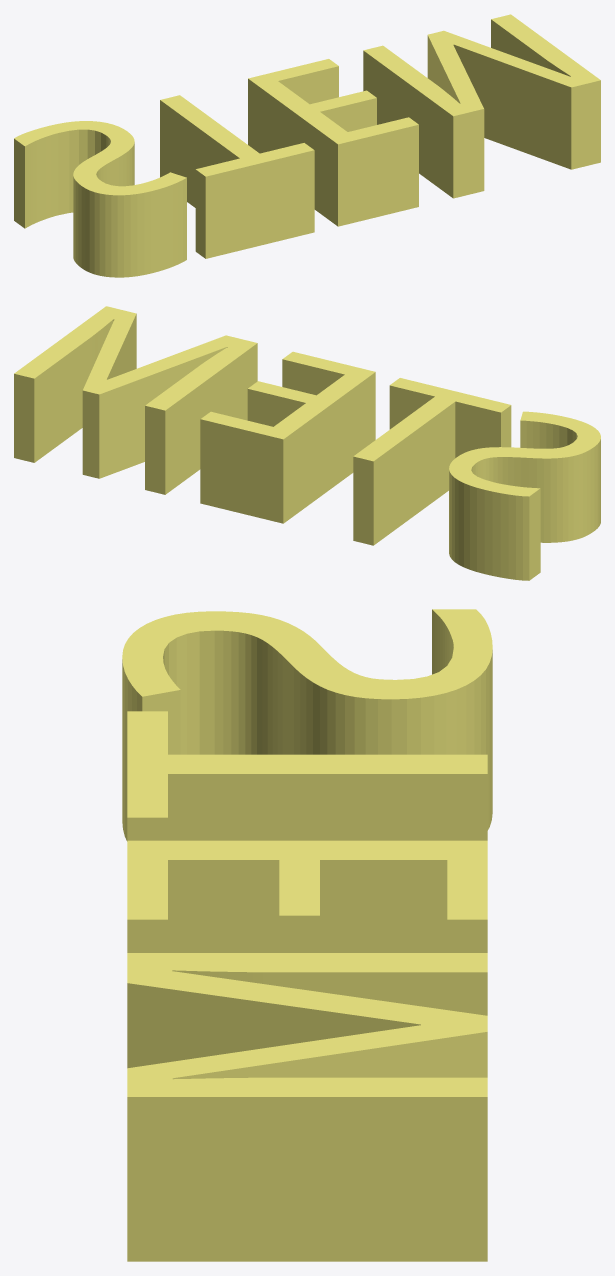
Rendered from tinker.obj.
3 views of the same model, one above another, from view 1: azimuth 30°, elevation 25°; view 2: azimuth 150°, elevation 25°; view 3: azimuth 270°, elevation 25° (orthographic). The views are drawn at different scales.
Visible parts, largest first — view 1: obj_0; view 2: obj_0; view 3: obj_0.
Part boxes in pixels (<box>): obj_0: <box>14,14,600,277</box>; obj_0: <box>14,306,600,580</box>; obj_0: <box>122,609,492,1261</box>.
Bounding box in the file's own units: 63.58 × 10 × 20.4.
